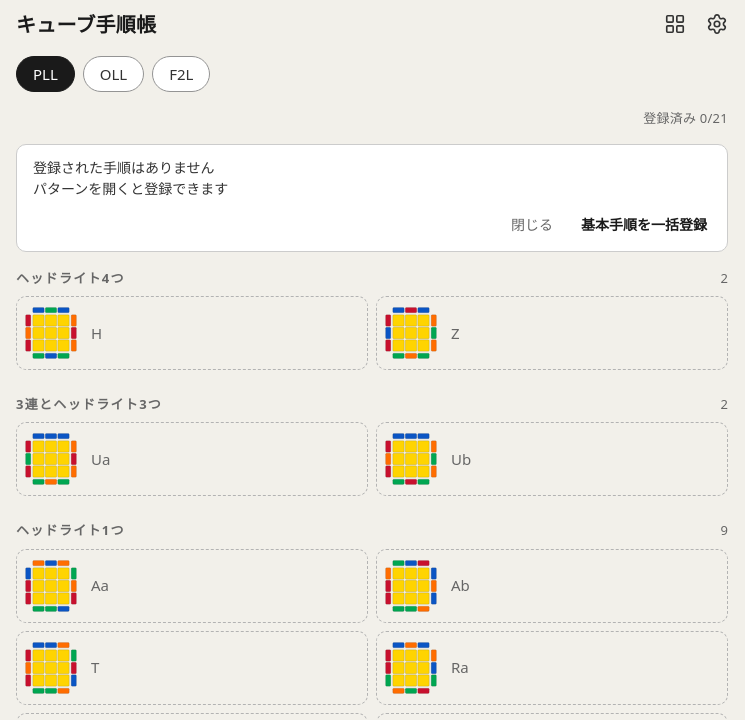
Scenario: ListScreen › リスト表示でもう一度押すとグリッドに戻る
The width and height of the screenshot is (745, 720).
Step 1. Click the button named "グリッド表示にする" → (675, 24), box [657,6,693,42]
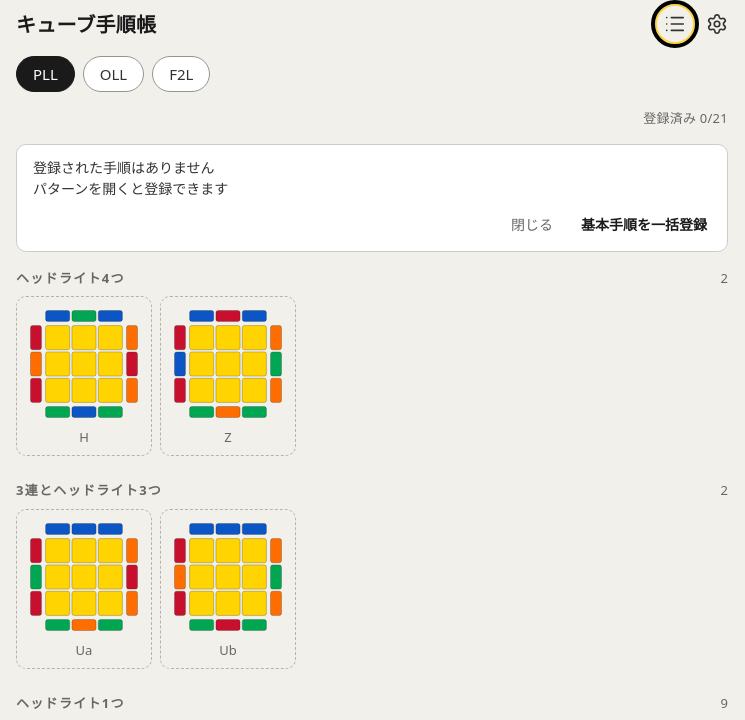
Expected: the button named "リスト表示にする" is shown, [657,6,693,42]
